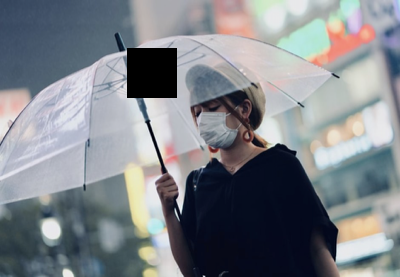with_mask: (191, 96, 244, 148)
